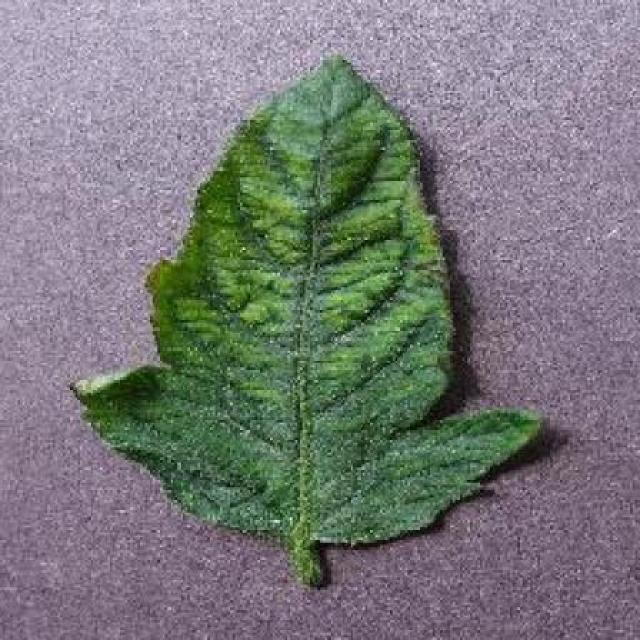Mosaic Virus: (69, 54, 548, 545)
